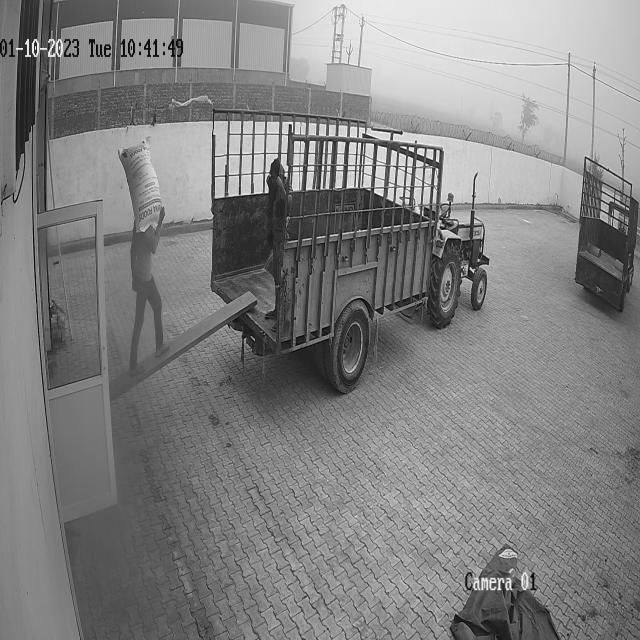sack: (117, 137, 162, 233)
